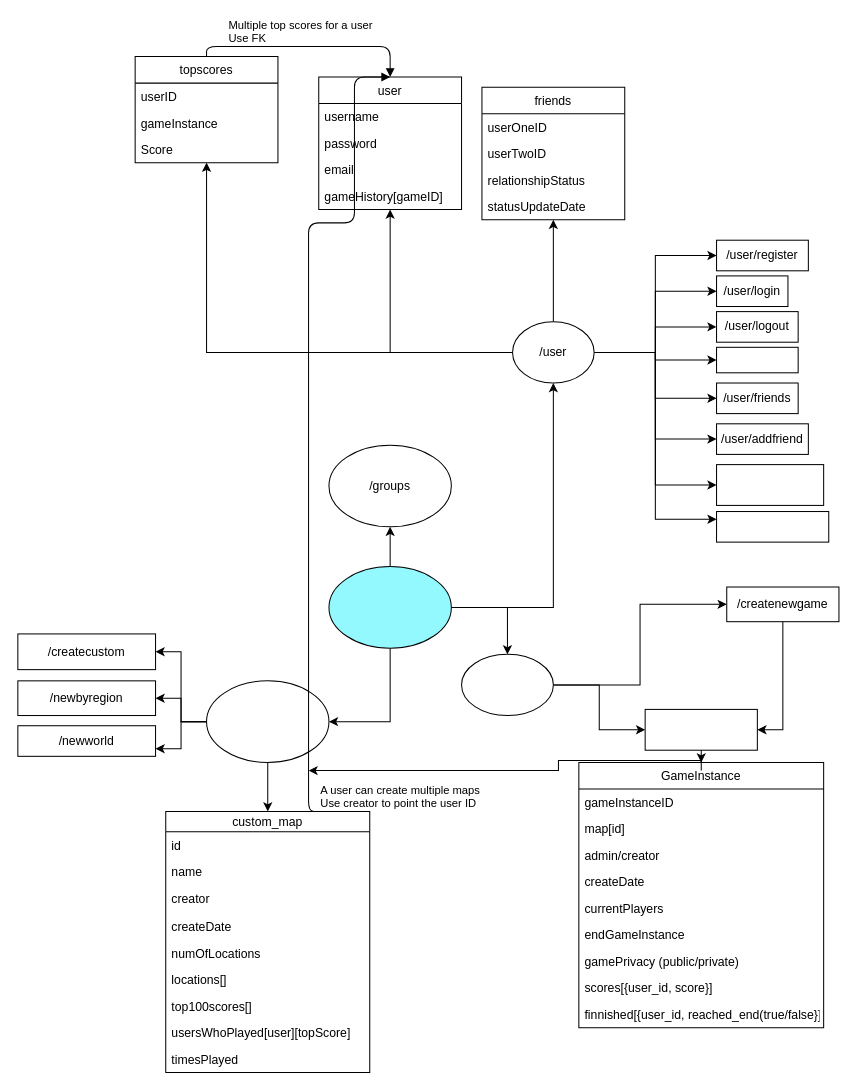
This 857x1092 diagram has some shape labels left out. Each missing label, with the centre of its shape:
"/game" belongs at point (507, 684).
"/map" belongs at point (267, 721).
"/user/delete" belongs at point (757, 359).
"/user/historygames" belongs at point (770, 484).
"/user/mapscreated" belongs at point (772, 526).
"/{gameInstanceID}" belongs at point (700, 729).
"whereami/" belongs at point (389, 607).
